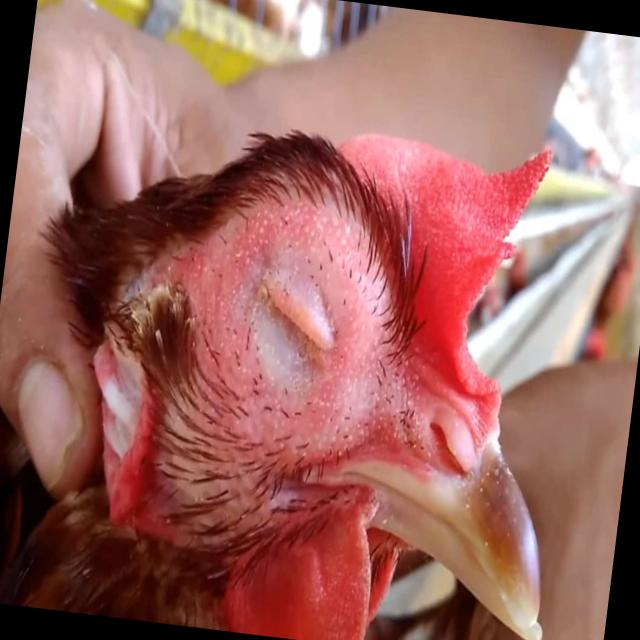bird flu: (0, 29, 603, 640)
